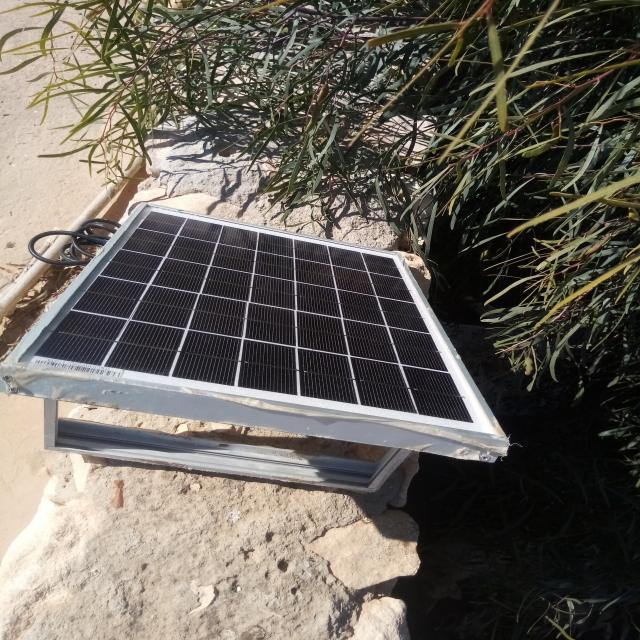no faulty: (6, 205, 503, 440)
